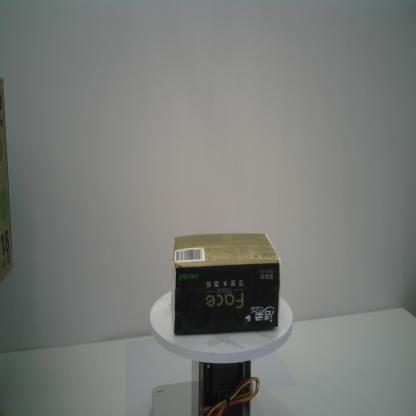Tissue: (170, 231, 281, 337)
